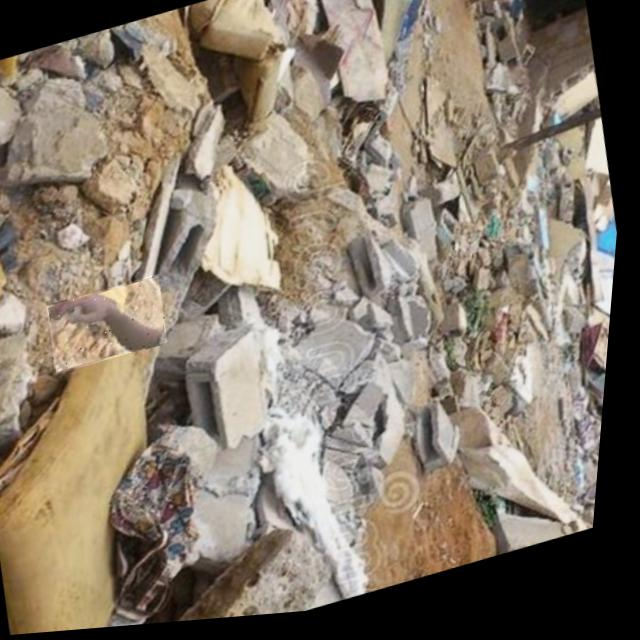Person in Rubble: (47, 276, 177, 376)
